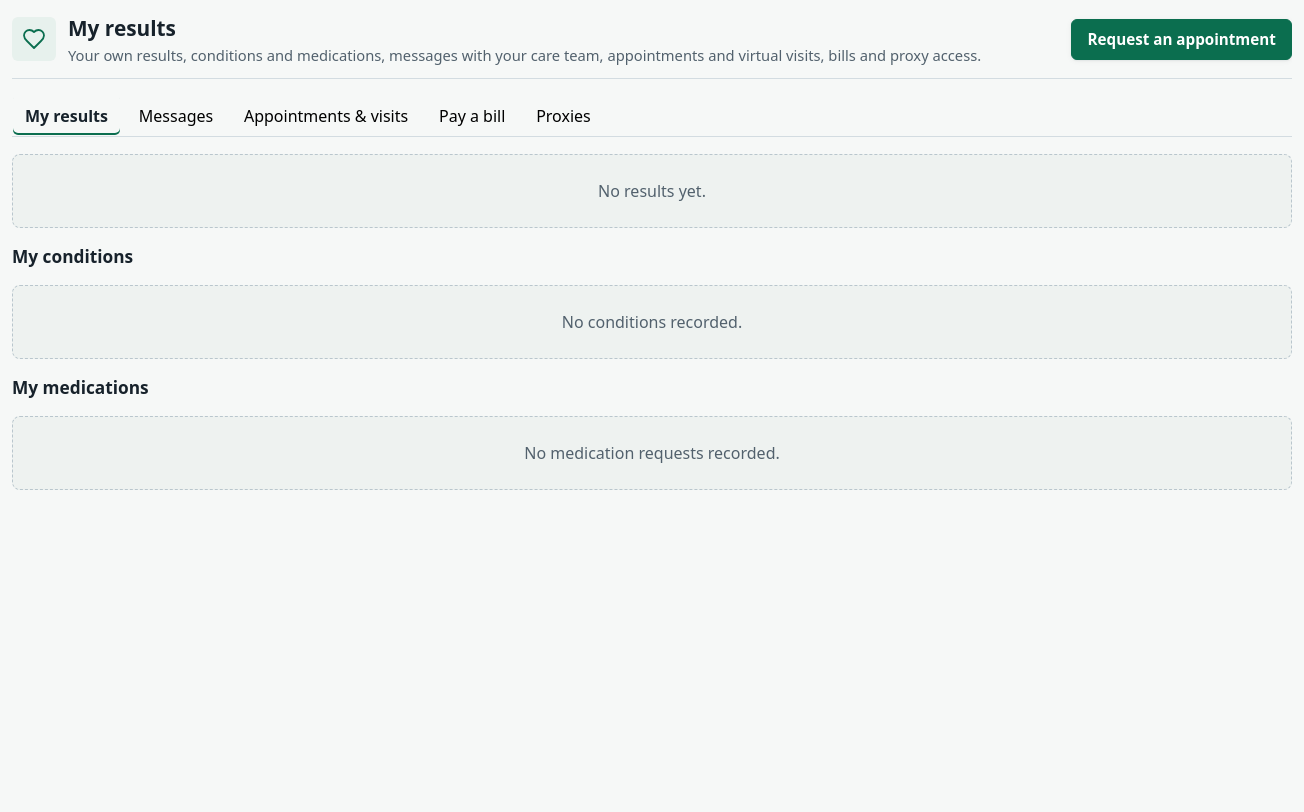
it: PortalPage — My virtual visits (BD-28 closure) › lists the patient's visits and submits the governed outcome form
Click the tab "Appointments & visits" at (326, 116), box [231,95,421,136]
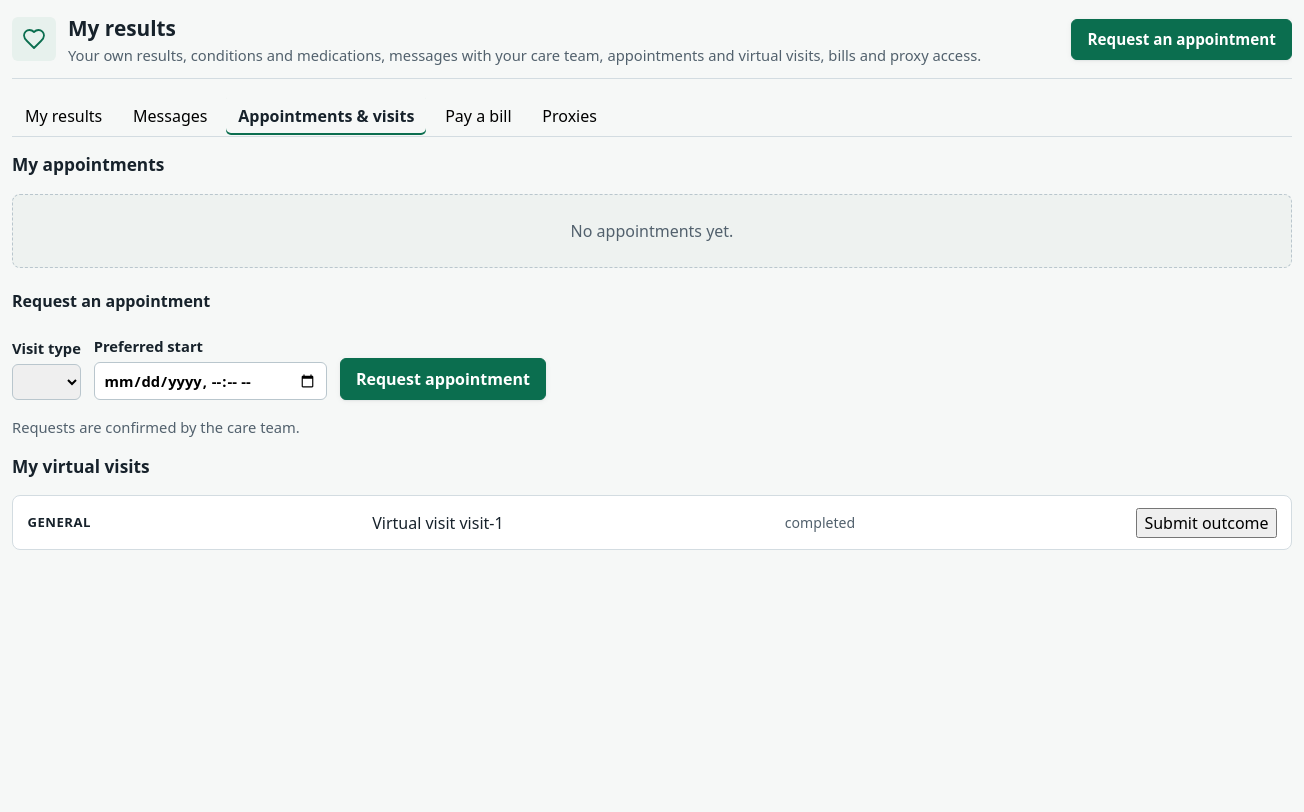
Now the heading "My virtual visits" is shown, box [12,455,150,478]
Now the text "Virtual visit visit-1" is shown, box [372,511,504,535]
Click the button "Submit outcome" at (1206, 523), box [1136,508,1277,538]
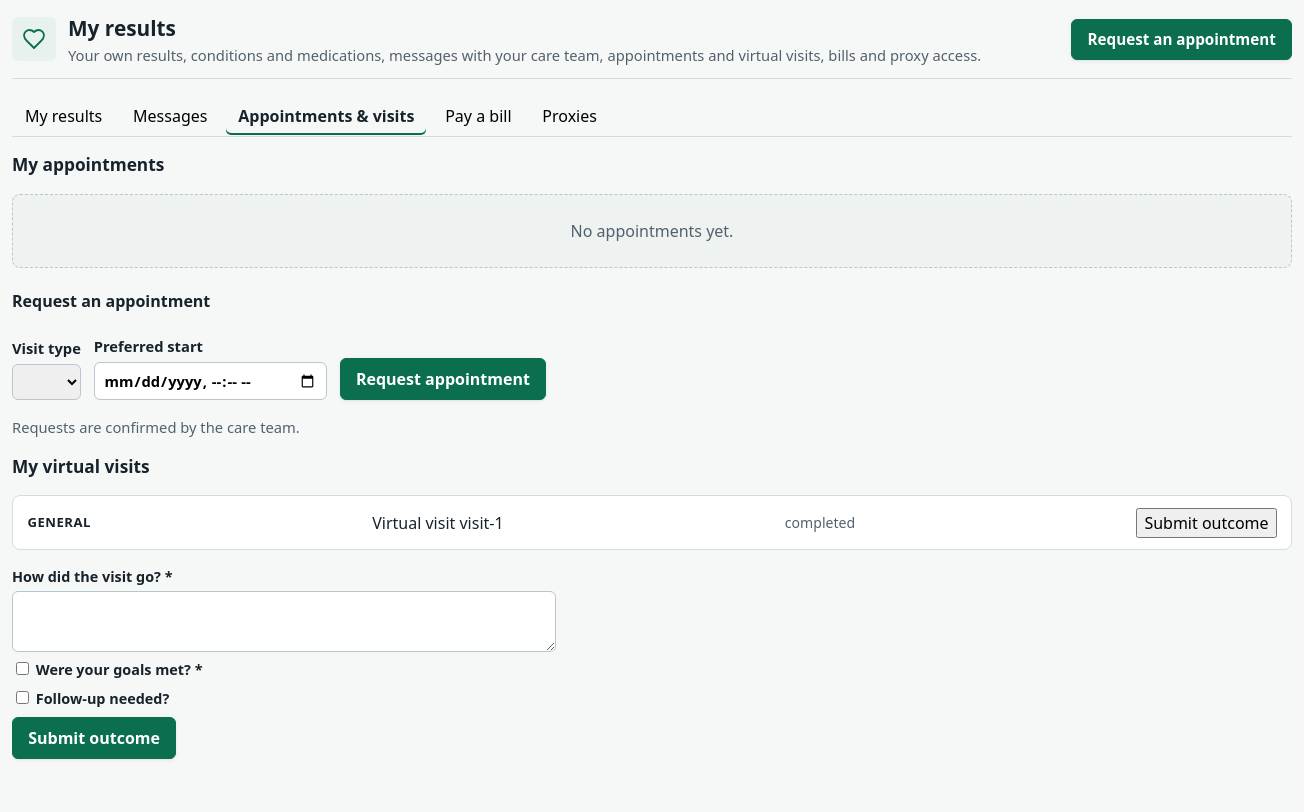
Type "Felt much better" into the text box labelled "How did the visit go? *" at (284, 621), box [12,591,556,652]
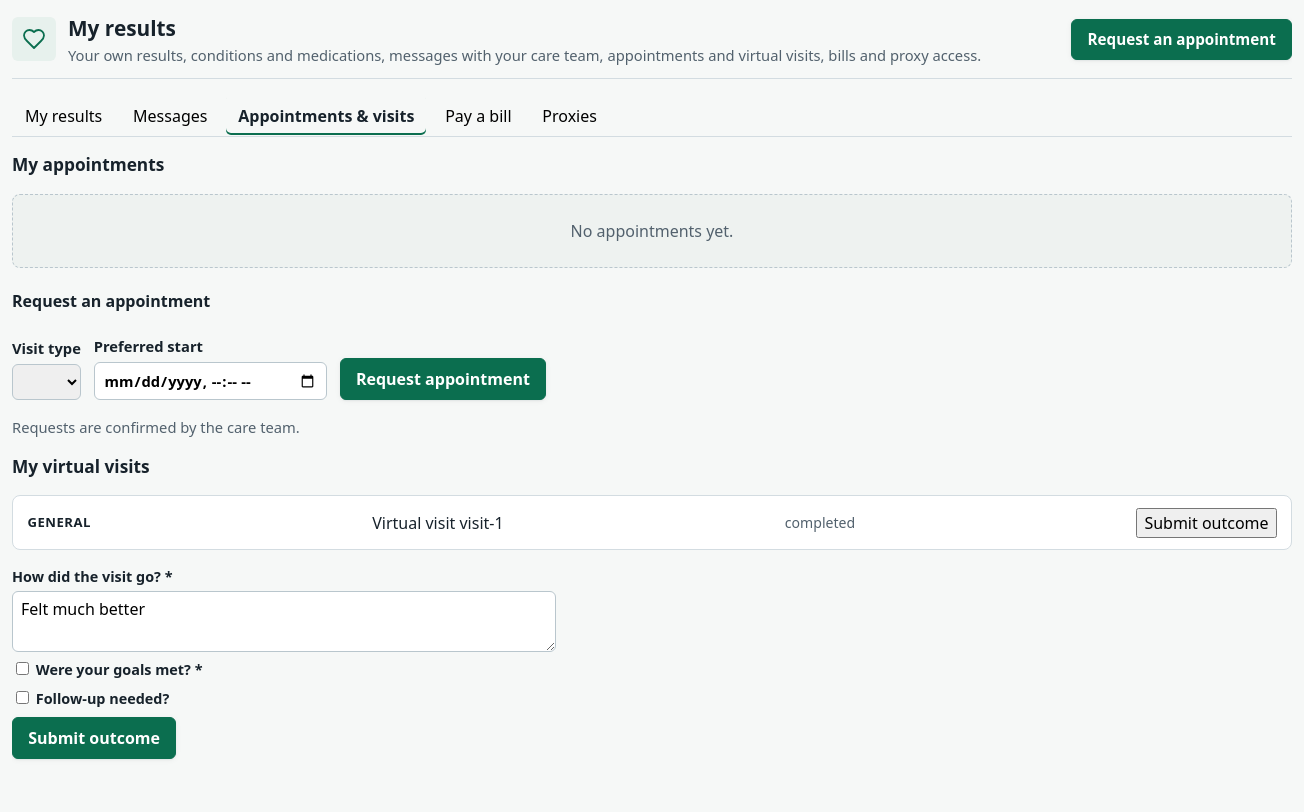
Click the checkbox labelled "Were your goals met? *" at (22, 668), box [16,662,29,675]
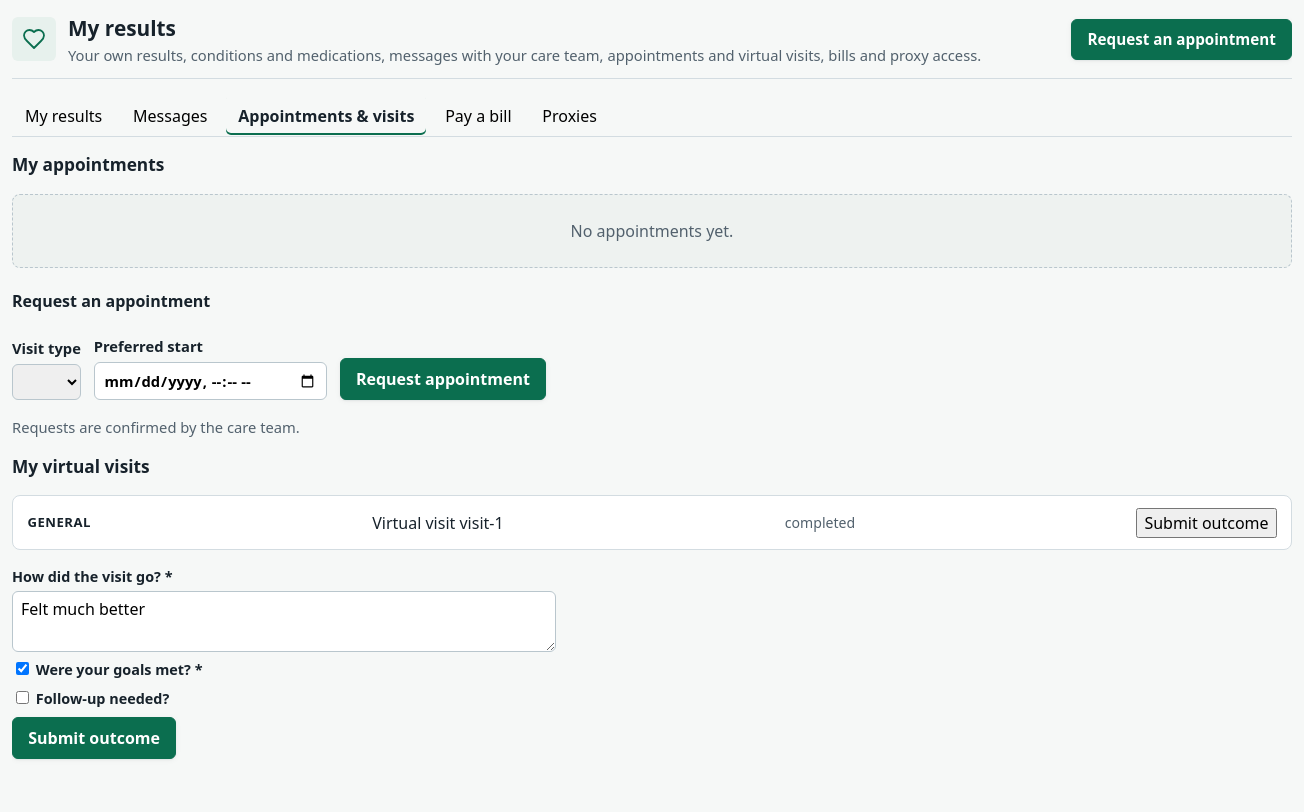
Click the button "Submit outcome" below "Follow-up needed?" at (94, 738), box [12,717,176,759]
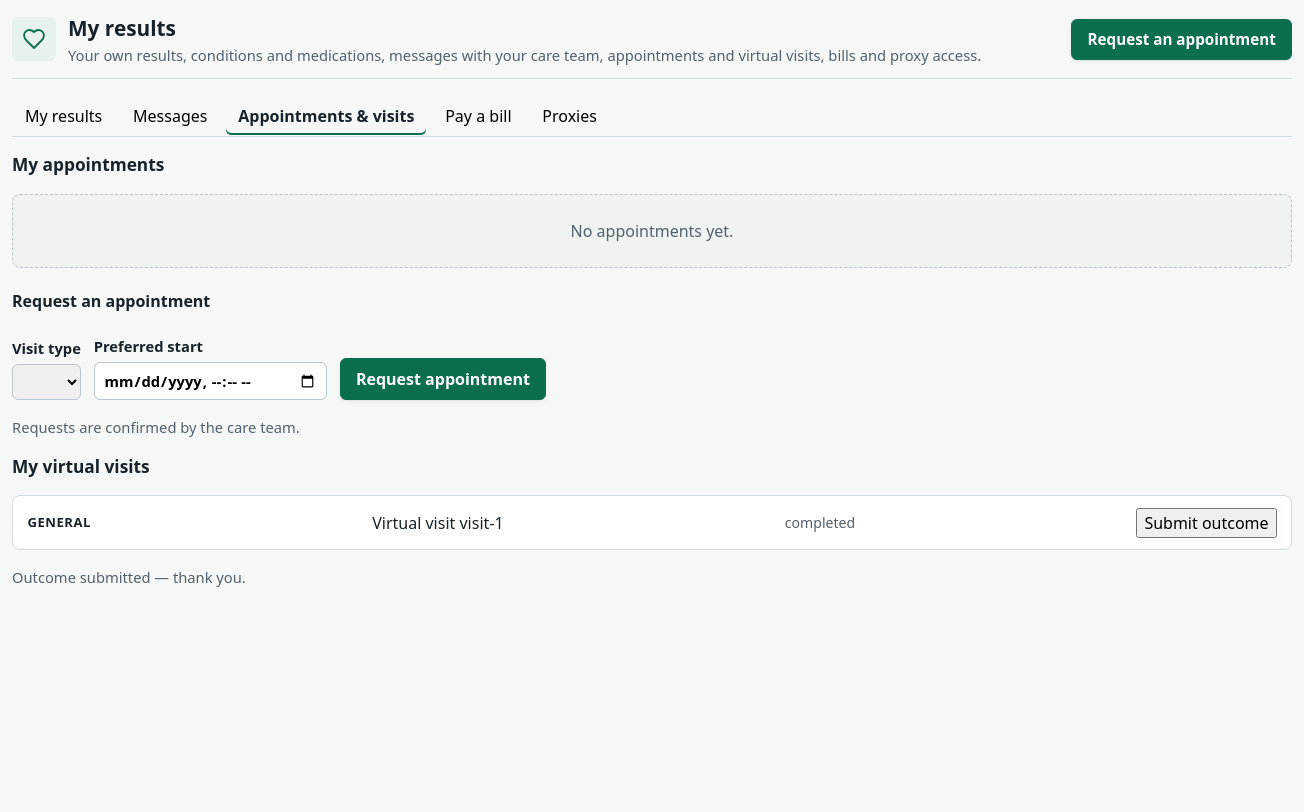
Now the text "Outcome submitted — thank you." is shown, box [12,567,246,587]
